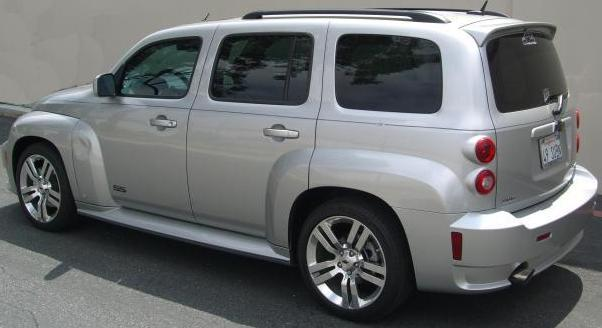back_view: (458, 111, 598, 302)
backlight: (461, 131, 500, 202)
side_glass: (102, 27, 450, 122)
